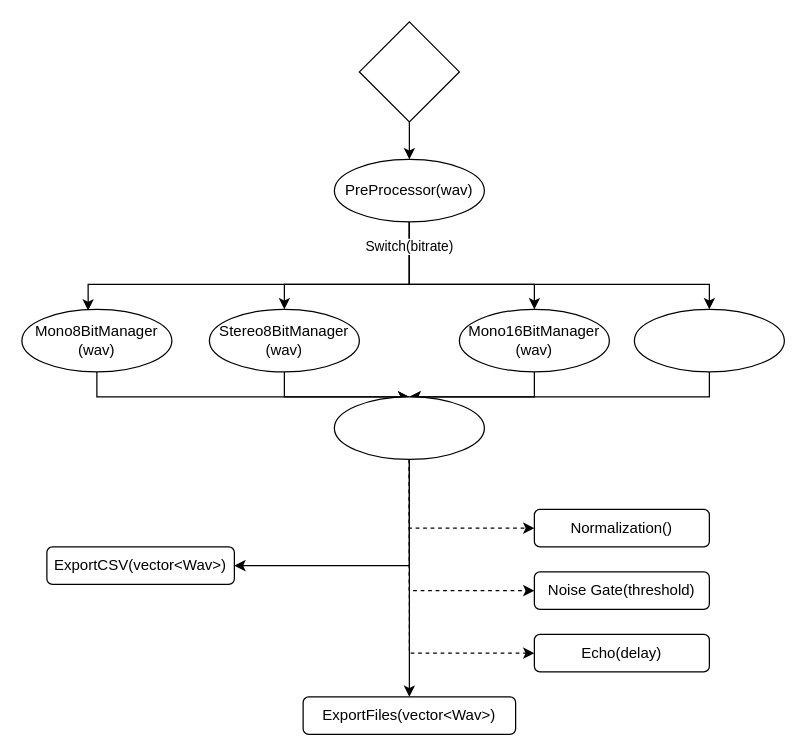
Image size: 806x756. Some labels were removed from this diagram. Each missing label, with the centre of its shape:
"Stereo16BitManager (wav)" goes at point 708,340.
"UI" goes at point 408,71.
"Wav(header,buffer, metadata)" goes at point 408,427.
